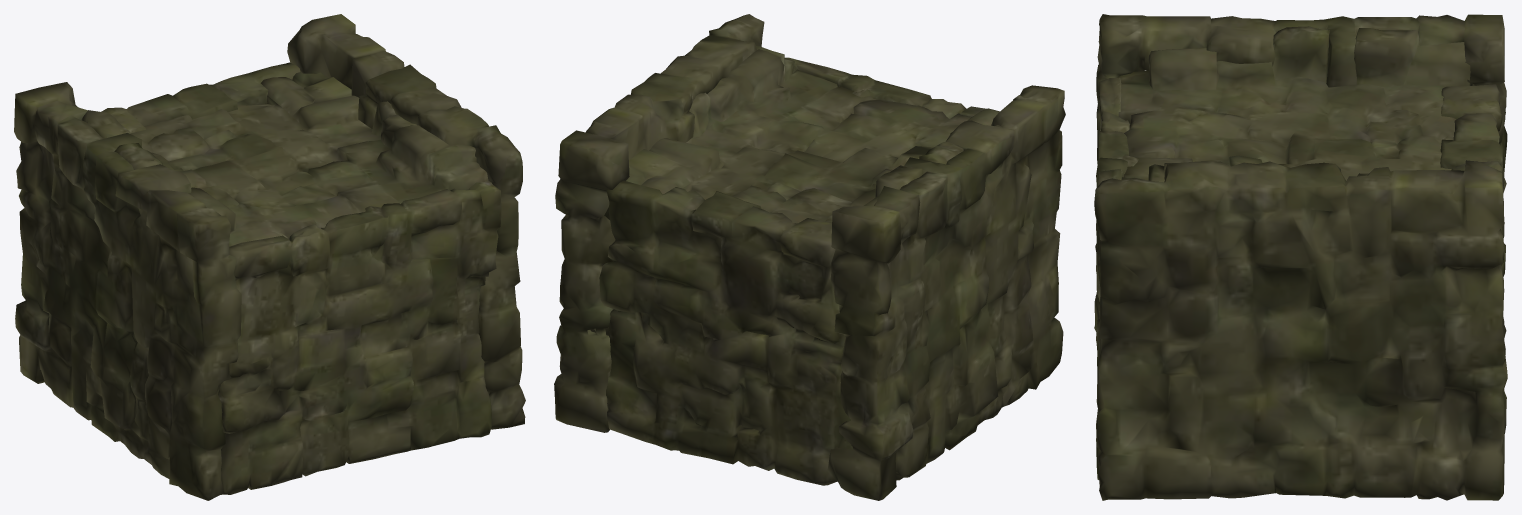
File: Ruins_Block01-transformed.glb
3 renders of one model, left to right at view 1: azimuth 30°, elevation 25°; view 2: azimuth 150°, elevation 25°; view 3: azimuth 270°, elevation 25°, orthographic. The views are drawn at different scales.
Visible parts, largest first — view 1: Ruins_Block01; view 2: Ruins_Block01; view 3: Ruins_Block01.
Boxes of the visible parts, bbox=[...] form: Ruins_Block01: bbox=[14, 14, 525, 500]; Ruins_Block01: bbox=[554, 14, 1065, 500]; Ruins_Block01: bbox=[1094, 14, 1507, 500].
Bounding box in the file's own units: 4.91 × 4.03 × 4.72.
Materials: 1 (1 with a texture image).
